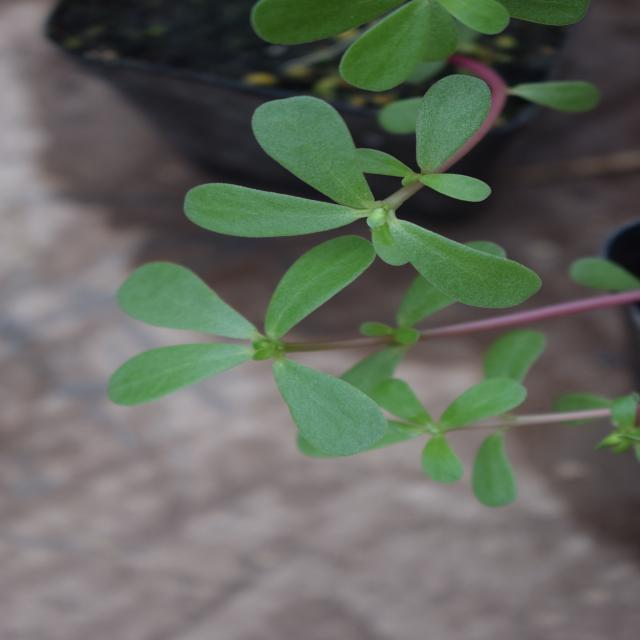purslane: (158, 94, 605, 546)
